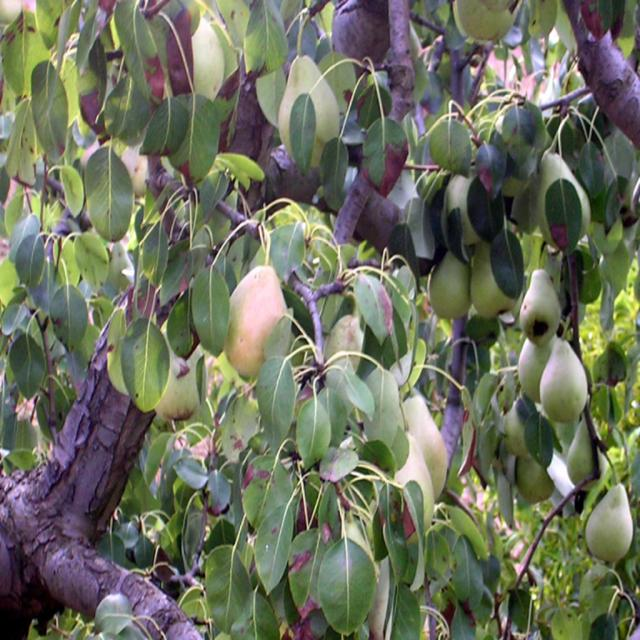pear: (222, 259, 288, 375), (273, 51, 339, 165), (143, 312, 201, 423), (399, 374, 447, 495), (532, 151, 586, 252), (390, 423, 432, 538), (538, 327, 584, 419), (579, 482, 633, 559), (516, 244, 556, 345), (468, 237, 518, 314), (184, 17, 227, 101), (564, 406, 608, 485), (441, 178, 490, 245), (512, 326, 556, 400), (425, 244, 471, 314), (320, 309, 366, 375), (449, 0, 518, 43), (114, 139, 158, 200)
